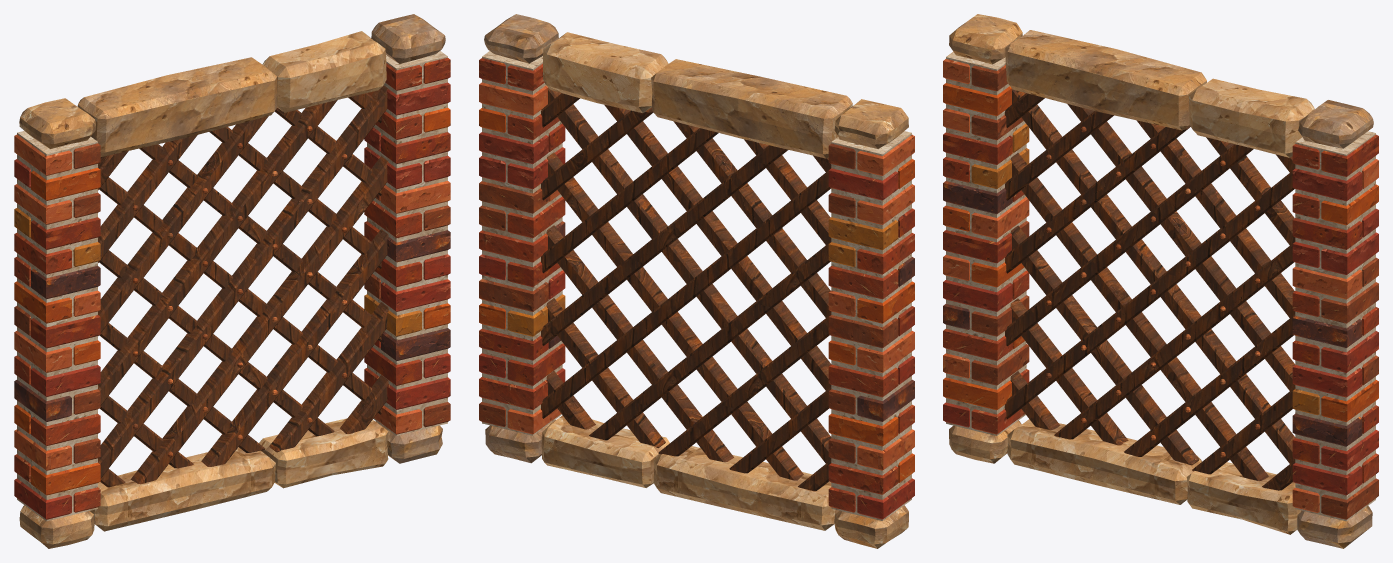
File: lattice_wall__clay_brick.glb
3 renders of one model, left to right at view 1: azimuth 30°, elevation 25°; view 2: azimuth 150°, elevation 25°; view 3: azimuth 330°, elevation 25°, orthographic.
Parts seen in each view (by area): view 1: model; view 2: model; view 3: model.
Boxes of the visible parts, x1=… form: model: x1=14, y1=14, x2=450, y2=548; model: x1=479, y1=14, x2=914, y2=548; model: x1=943, y1=14, x2=1378, y2=548.
Size of the model in its own units: 1.98 by 1.98 by 0.2685.
Materials: 14 (14 with a texture image).
